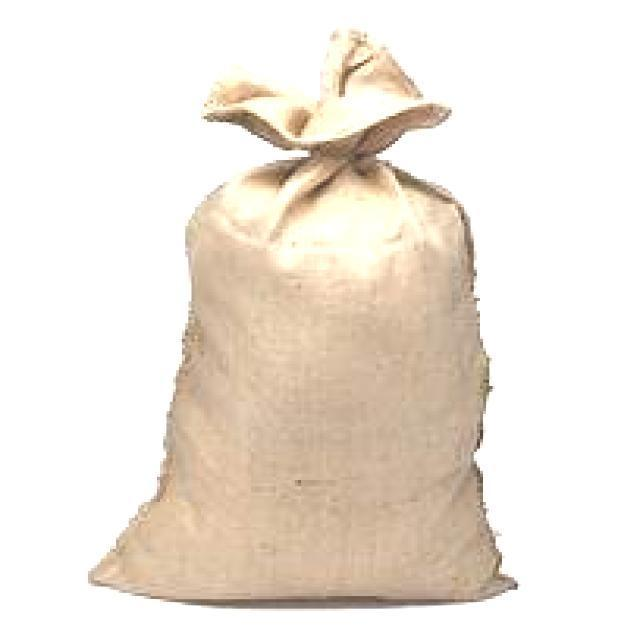gunny_bag: (80, 19, 525, 609)
